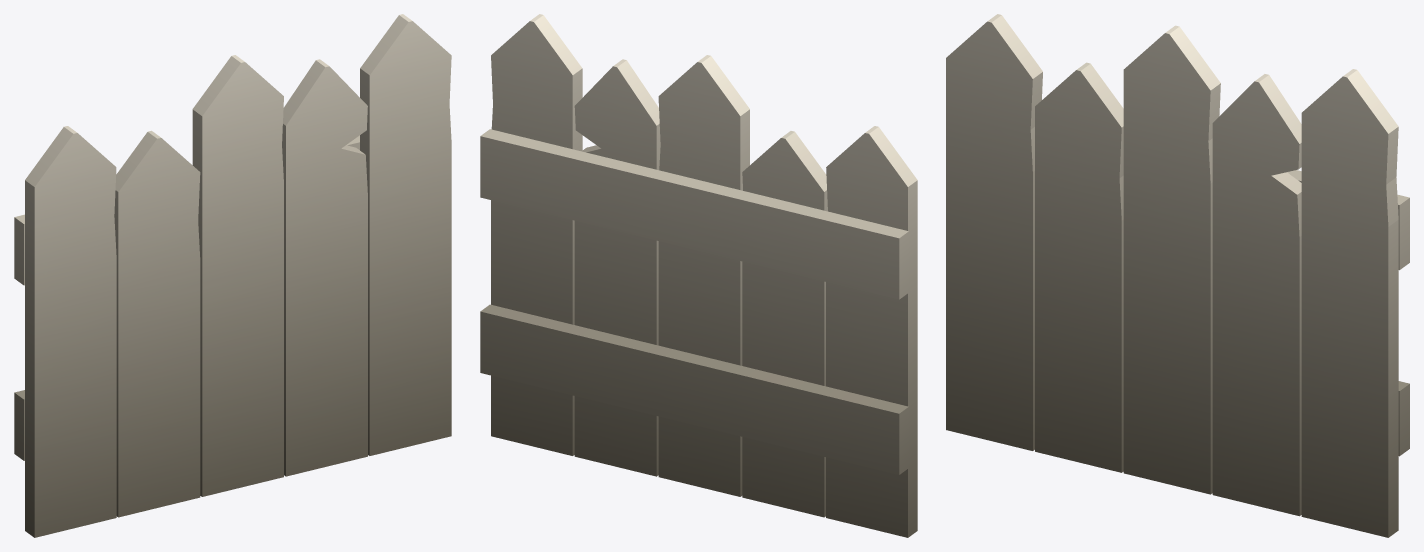
The model's file is White1.glb.
The picture shows the model from 3 angles, left to right: view 1: azimuth 30°, elevation 25°; view 2: azimuth 150°, elevation 25°; view 3: azimuth 330°, elevation 25°; orthographic projection. The views are drawn at different scales.
Visible parts, largest first — view 1: White1.001; view 2: White1.001; view 3: White1.001.
Boxes of the visible parts, x1,y1,x2,y2 form: White1.001: (14,14,451,537); White1.001: (480,14,917,537); White1.001: (946,14,1409,537).
Bounding box in the file's own units: 10 × 9.68 × 0.8.
Materials: 1 (1 with a texture image).
